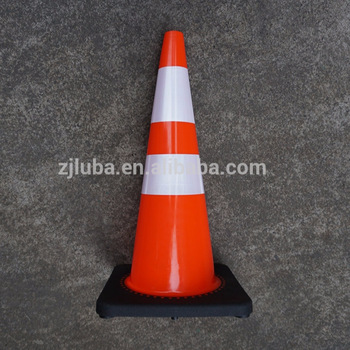orangeC: (93, 21, 255, 333)
